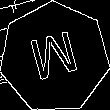M_S: (26, 27, 83, 88)
